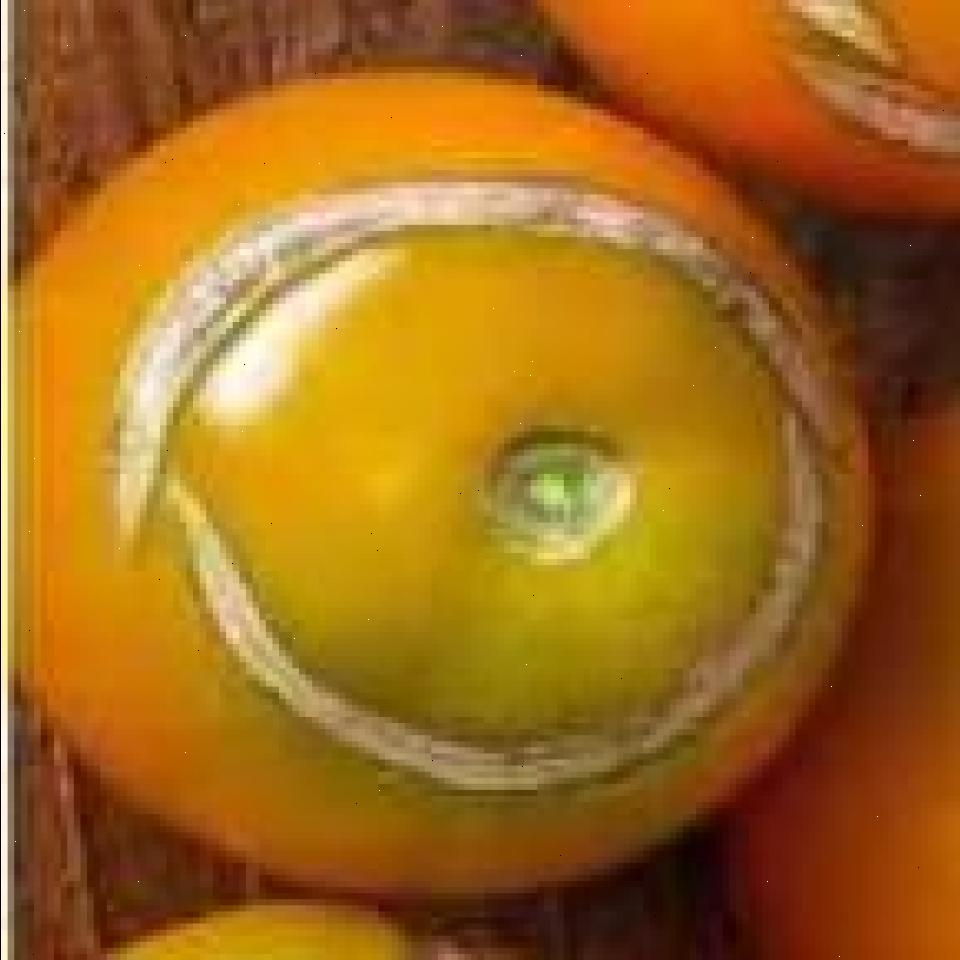Cracking: (107, 174, 850, 809)
